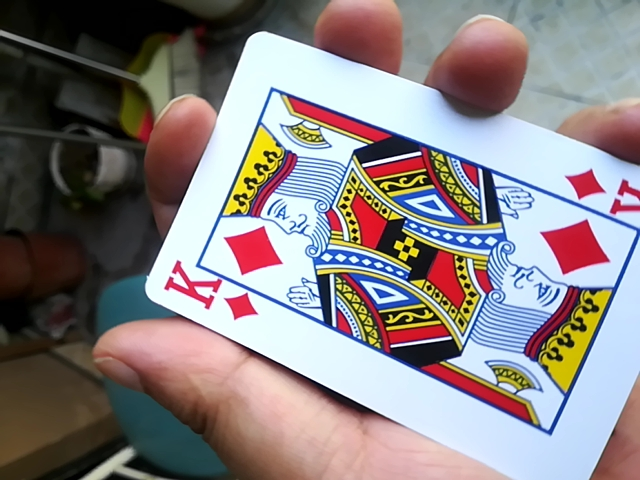fk k: (128, 32, 639, 480)
